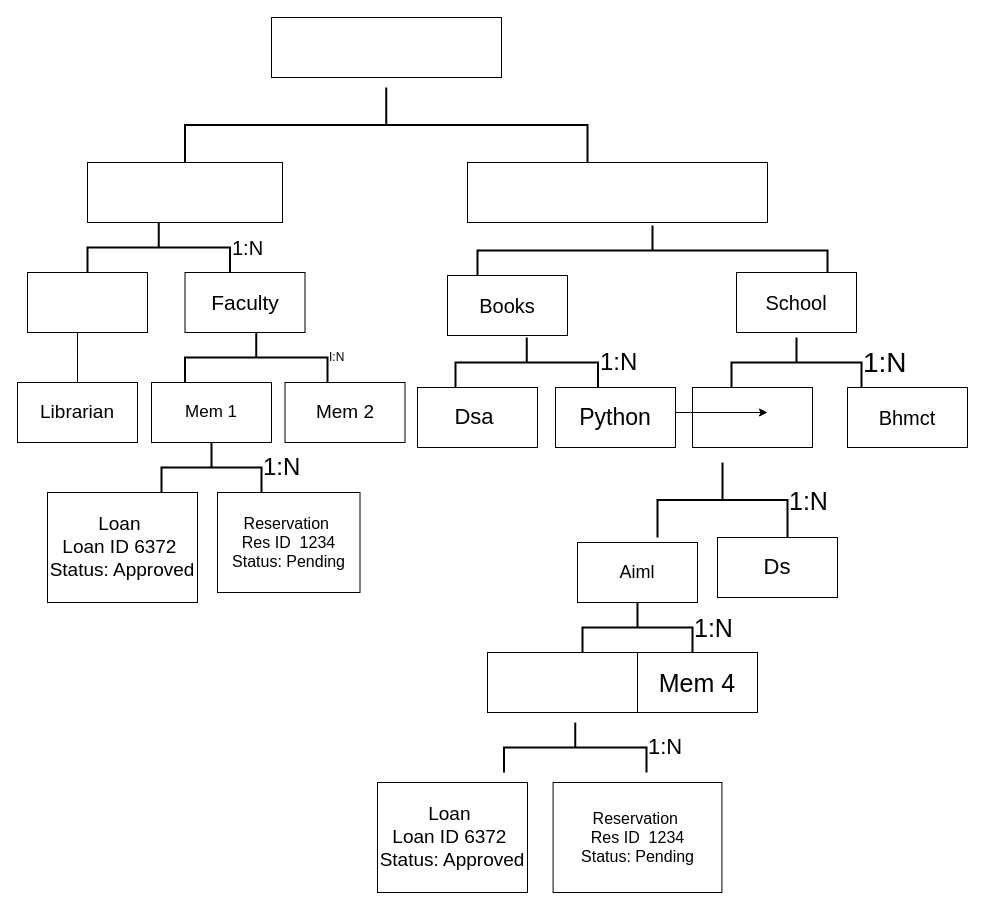
The diagram is 985 pixels wide and 910 high, and some of its shapes have lost their labels. The centre of each missing label's shape, as x and y in pixels:
"Lib. Staff" belongs at pixel 87 302.
"Library" belongs at pixel 386 47.
"Mem 3" belongs at pixel 562 682.
"ONE TO MANY" belongs at pixel 386 124.
"Soet" belongs at pixel 752 417.
"Staff" belongs at pixel 184 192.
"Students" belongs at pixel 617 192.
